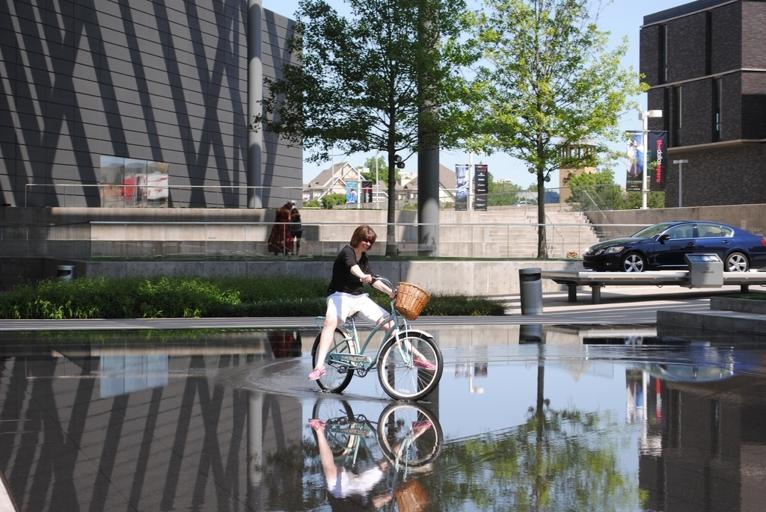non-vehicle: (306, 271, 447, 402), (304, 396, 442, 511)
